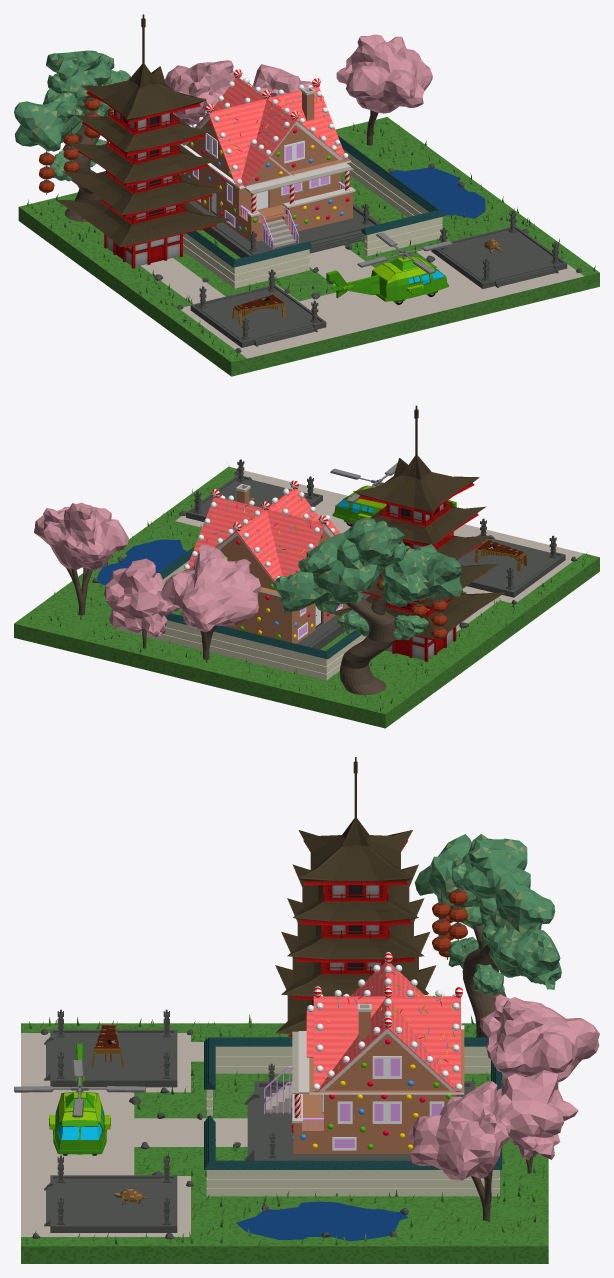
3 renders of one model, top to bottom at view 1: azimuth 30°, elevation 25°; view 2: azimuth 150°, elevation 25°; view 3: azimuth 270°, elevation 25°, orthographic. The views are drawn at different scales.
Parts seen in each view (by area): view 1: Cube.005, Cube.1203, VEHICLES_HELICOPTER, OBJRANDOM_MARIMBA; view 2: Cube.005, Cube.1203, VEHICLES_HELICOPTER, OBJRANDOM_MARIMBA; view 3: Cube.005, Cube.1203, VEHICLES_HELICOPTER, OBJRANDOM_MARIMBA.
Part boxes in pixels (bbox=[...]): Cube.005: bbox=[14, 14, 599, 376]; Cube.1203: bbox=[179, 69, 355, 248]; VEHICLES_HELICOPTER: bbox=[326, 232, 452, 304]; OBJRANDOM_MARIMBA: bbox=[232, 293, 285, 324]; Cube.005: bbox=[14, 405, 599, 728]; Cube.1203: bbox=[182, 480, 347, 643]; VEHICLES_HELICOPTER: bbox=[330, 463, 456, 526]; OBJRANDOM_MARIMBA: bbox=[474, 539, 527, 571]; Cube.005: bbox=[21, 757, 599, 1263]; Cube.1203: bbox=[264, 952, 464, 1153]; VEHICLES_HELICOPTER: bbox=[14, 1043, 145, 1155]; OBJRANDOM_MARIMBA: bbox=[91, 1024, 123, 1067].
Bounding box in the file's own units: 4528 × 2698 × 4442.
Materials: 50 (6 with a texture image).
